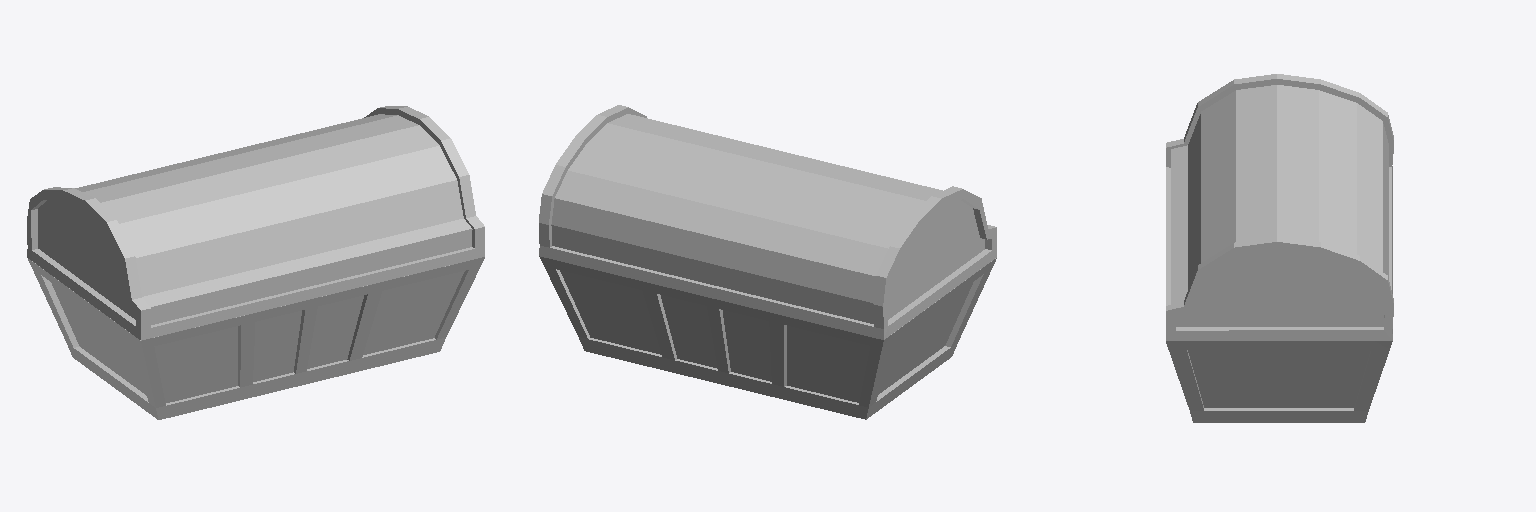
Rendered from DS_Chest.obj.
3 renders of one model, left to right at view 1: azimuth 30°, elevation 25°; view 2: azimuth 150°, elevation 25°; view 3: azimuth 270°, elevation 25°, orthographic.
Parts seen in each view (by area): view 1: default; view 2: default; view 3: default.
Part boxes in pixels (left/top/right/bottom): default: left=27, top=106, right=484, bottom=419; default: left=539, top=105, right=996, bottom=419; default: left=1166, top=74, right=1393, bottom=422.
Bounding box in the file's own units: 3.65 × 1.99 × 2.1.